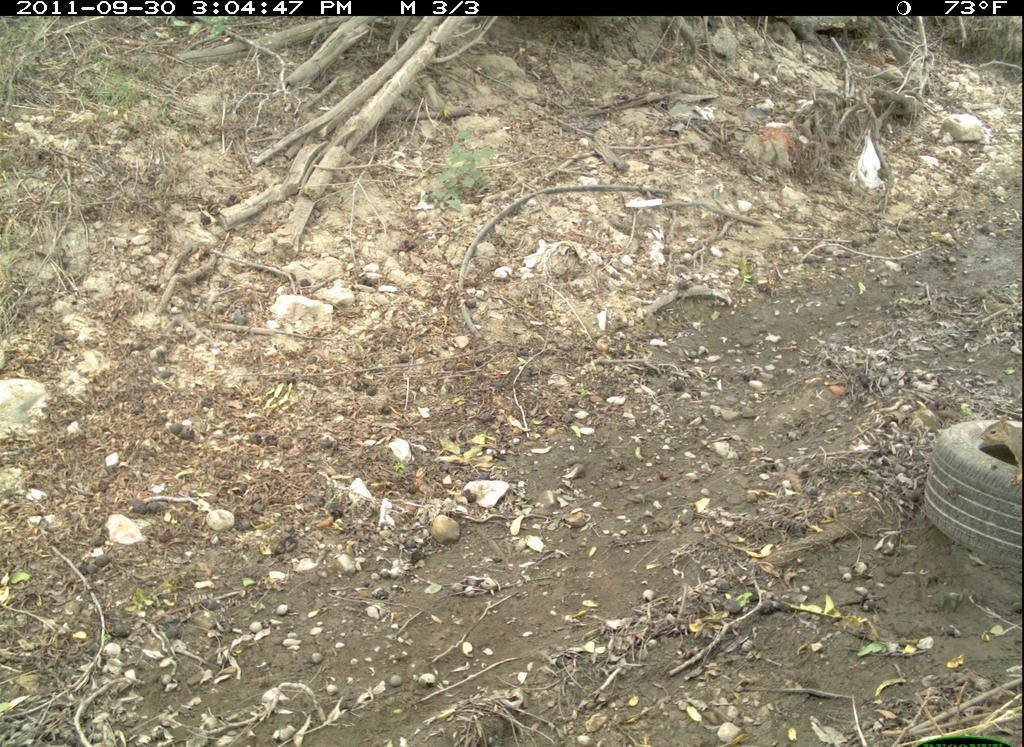squirrel: (980, 405, 1023, 506)
